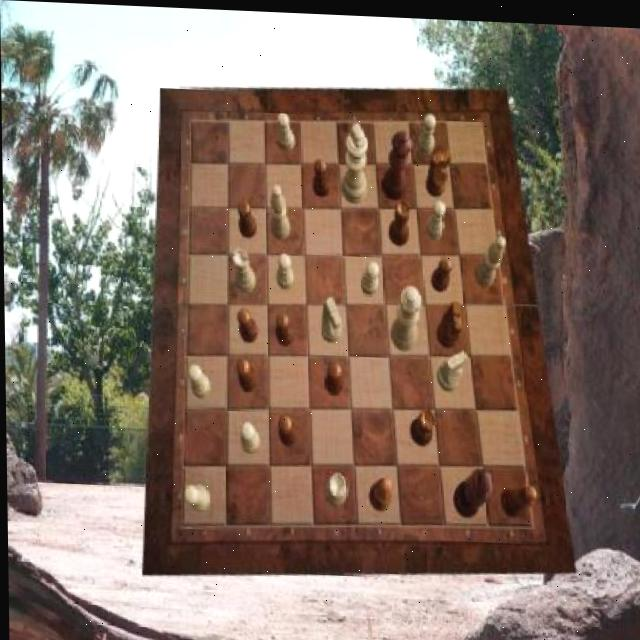bishop: (498, 479, 535, 514), (367, 474, 392, 510)
black-bishop: (451, 463, 490, 515)
black-king: (434, 297, 461, 345), (425, 146, 450, 194)
black-knight: (430, 254, 452, 289), (237, 197, 255, 236), (235, 356, 255, 391), (236, 307, 256, 341), (324, 359, 343, 393), (311, 156, 328, 194), (275, 308, 293, 343), (276, 411, 294, 444)
black-pawn: (380, 127, 413, 199)
black-queen: (387, 196, 410, 243), (408, 405, 434, 443)
black-rook: (472, 230, 505, 284), (268, 182, 289, 237)
white-bishop: (340, 120, 368, 202)
white-king: (434, 346, 466, 389), (319, 294, 341, 341)
white-knight: (425, 196, 446, 237), (186, 363, 209, 398), (416, 110, 435, 152), (183, 483, 209, 510), (276, 109, 294, 148), (359, 257, 379, 292), (239, 420, 259, 454), (275, 251, 292, 288)
white-pawn: (389, 281, 423, 348)
white-queen: (232, 245, 256, 291), (322, 470, 346, 504)
